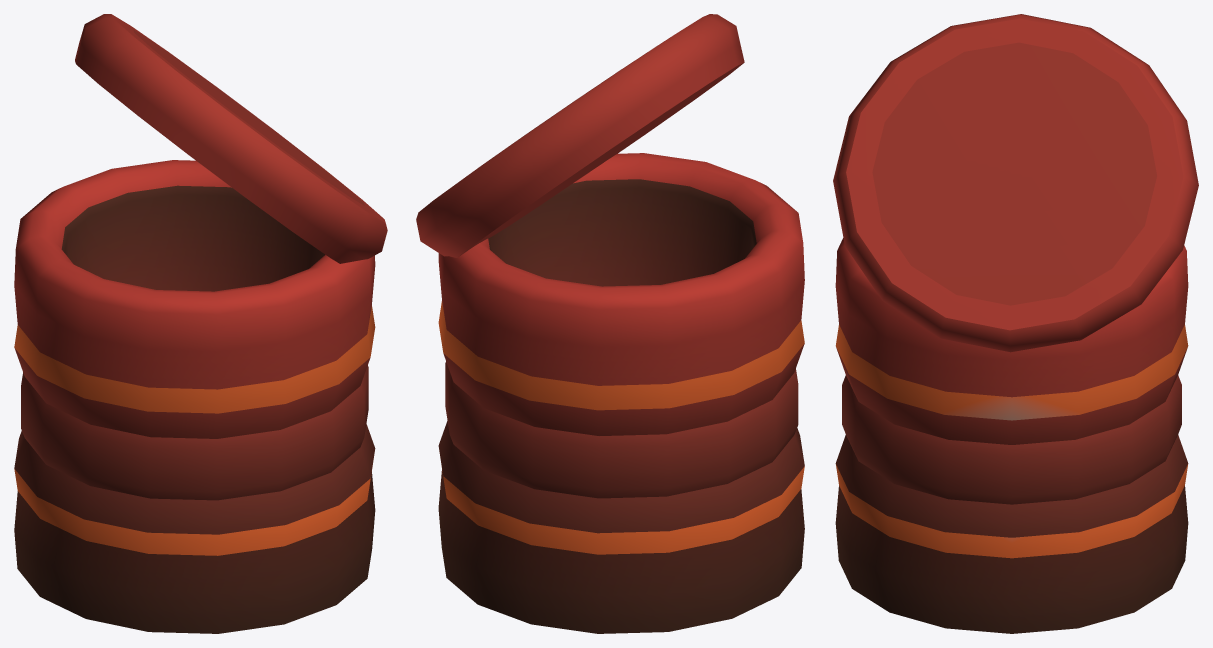
The model's file is TomatoCan.fbx.
3 renders of one model, left to right at view 1: azimuth 30°, elevation 25°; view 2: azimuth 150°, elevation 25°; view 3: azimuth 270°, elevation 25°, orthographic. The views are drawn at different scales.
Parts seen in each view (by area): view 1: Can; view 2: Can; view 3: Can.
Part boxes in pixels (left/top/right/bottom): Can: left=14, top=14, right=387, bottom=633; Can: left=416, top=14, right=804, bottom=633; Can: left=833, top=14, right=1198, bottom=633.
Bounding box in the file's own units: 2.22 × 3.47 × 2.23.
